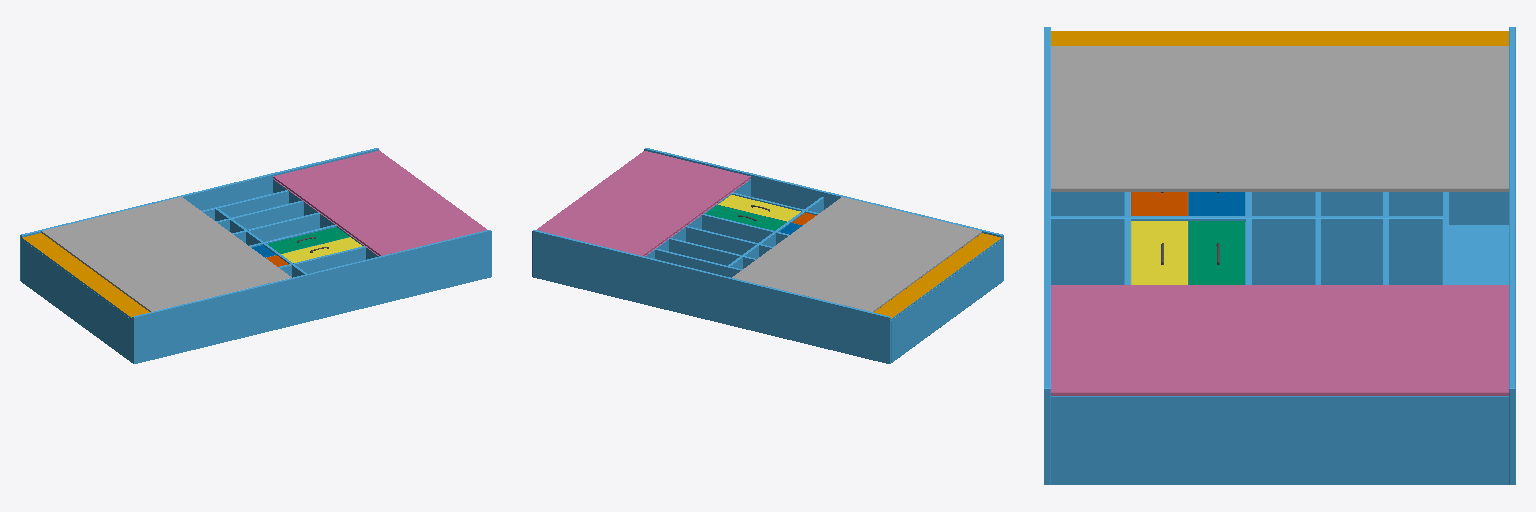
robot.urdf — 184:
<robot name="184">


	<link name="0:virtual">
		<visual>
			<origin xyz="0.0 0.0 0.0" rpy="0 0 0"/>
			<geometry>
				<cylinder length="0" radius="0"/>
			</geometry>
		</visual>
	</link>


	<link name="1:static">
		<visual>
			<origin xyz="-0.0 -0.0 -0.0" rpy="0 0 0"/>
			<geometry>
				<mesh filename="../raw_data/184/part_meshes/1.dae" />
			</geometry>
		</visual>
	</link>


	<link name="2:drawer 1">
		<visual>
			<origin xyz="-0.4124946380034089 -0.8063510060310364 0.016566134989261627" rpy="0 0 0"/>
			<geometry>
				<mesh filename="../raw_data/184/part_meshes/2.dae" />
			</geometry>
		</visual>
	</link>


	<link name="3:drawer 2">
		<visual>
			<origin xyz="-0.4124946380034089 -0.5362470000982285 0.016566261649131775" rpy="0 0 0"/>
			<geometry>
				<mesh filename="../raw_data/184/part_meshes/3.dae" />
			</geometry>
		</visual>
	</link>


	<link name="4:drawer 3">
		<visual>
			<origin xyz="0.41249473858624697 -0.8063510060310364 0.016566134989261627" rpy="0 0 0"/>
			<geometry>
				<mesh filename="../raw_data/184/part_meshes/4.dae" />
			</geometry>
		</visual>
	</link>


	<link name="5:drawer 4">
		<visual>
			<origin xyz="0.41249473858624697 -0.5362470000982285 0.016566261649131775" rpy="0 0 0"/>
			<geometry>
				<mesh filename="../raw_data/184/part_meshes/5.dae" />
			</geometry>
		</visual>
	</link>


	<link name="6:cabinet door 1">
		<visual>
			<origin xyz="-2.0 -1.0999666256830096 -0.19941399991512299" rpy="0 0 0"/>
			<geometry>
				<mesh filename="../raw_data/184/part_meshes/6.dae" />
			</geometry>
		</visual>
	</link>


	<link name="7:cabinet door 2">
		<visual>
			<origin xyz="0.9964194819331169 -1.1000000378116965 -0.24000000208616257" rpy="0 0 0"/>
			<geometry>
				<mesh filename="../raw_data/184/part_meshes/7.dae" />
			</geometry>
		</visual>
	</link>


	<link name="8:cabinet door 3">
		<visual>
			<origin xyz="1.4051694869995117 -1.0999996280297637 -0.2199999988079071" rpy="0 0 0"/>
			<geometry>
				<mesh filename="../raw_data/184/part_meshes/8.dae" />
			</geometry>
		</visual>
	</link>


	<joint name="0:virtual::1:static" type="fixed">
		<parent link="0:virtual"/>
		<child link="1:static"/>
		<origin xyz="0.0 0.0 0.0" rpy="0 0 0"/>
	</joint>


	<joint name="0:virtual::2:drawer 1_translation" type="prismatic">
		<parent link="0:virtual"/>
		<child link="2:drawer 1"/>
		<origin xyz="0.4124946380034089 0.8063510060310364 -0.016566134989261627" rpy="0 0 0"/>
		<limit lower="0.0" upper="0.278128490746021" effort="10" velocity="3"/>
		<axis xyz="0.0 0.0 1.0"/>
	</joint>


	<joint name="0:virtual::3:drawer 2_translation" type="prismatic">
		<parent link="0:virtual"/>
		<child link="3:drawer 2"/>
		<origin xyz="0.4124946380034089 0.5362470000982285 -0.016566261649131775" rpy="0 0 0"/>
		<limit lower="0.0" upper="0.282411990046501" effort="10" velocity="3"/>
		<axis xyz="0.0 0.0 1.0"/>
	</joint>


	<joint name="0:virtual::4:drawer 3_translation" type="prismatic">
		<parent link="0:virtual"/>
		<child link="4:drawer 3"/>
		<origin xyz="-0.41249473858624697 0.8063510060310364 -0.016566134989261627" rpy="0 0 0"/>
		<limit lower="0.0" upper="0.285411990046501" effort="10" velocity="3"/>
		<axis xyz="0.0 0.0 1.0"/>
	</joint>


	<joint name="0:virtual::5:drawer 4_translation" type="prismatic">
		<parent link="0:virtual"/>
		<child link="5:drawer 4"/>
		<origin xyz="-0.41249473858624697 0.5362470000982285 -0.016566261649131775" rpy="0 0 0"/>
		<limit lower="0.0" upper="0.279411990046501" effort="10" velocity="3"/>
		<axis xyz="0.0 0.0 1.0"/>
	</joint>


	<joint name="0:virtual::6:cabinet door 1_rotation" type="revolute">
		<parent link="0:virtual"/>
		<child link="6:cabinet door 1"/>
		<origin xyz="2.0 1.0999666256830096 0.19941399991512299" rpy="0 0 0"/>
		<limit lower="0.0" upper="3.141592653589793" effort="10" velocity="3"/>
		<axis xyz="0.0 1.0 0.0"/>
	</joint>


	<joint name="0:virtual::7:cabinet door 2_translation" type="prismatic">
		<parent link="0:virtual"/>
		<child link="7:cabinet door 2"/>
		<origin xyz="-0.9964194819331169 1.1000000378116965 0.24000000208616257" rpy="0 0 0"/>
		<limit lower="-0.216" upper="2.175" effort="10" velocity="3"/>
		<axis xyz="1.0 0.0 0.0"/>
	</joint>


	<joint name="0:virtual::8:cabinet door 3_translation" type="prismatic">
		<parent link="0:virtual"/>
		<child link="8:cabinet door 3"/>
		<origin xyz="-1.4051694869995117 1.0999996280297637 0.2199999988079071" rpy="0 0 0"/>
		<limit lower="0.0" upper="1.597" effort="10" velocity="3"/>
		<axis xyz="1.0 0.0 0.0"/>
	</joint>


</robot>

--- What the picture shows (computed from the rendered views, not written in the file) ---
3 views of the same robot in one strip: view 1: azimuth 30°, elevation 25°; view 2: azimuth 150°, elevation 25°; view 3: azimuth 270°, elevation 25° (orthographic).
Model 184 with 9 links and 8 joints (1 revolute, 6 prismatic, 1 fixed), rooted at 0:virtual, posed all joints at 0.
Links seen in each view (by area): view 1: 1:static, 7:cabinet door 2, 6:cabinet door 1, 8:cabinet door 3, 2:drawer 1, 3:drawer 2; view 2: 1:static, 7:cabinet door 2, 6:cabinet door 1, 8:cabinet door 3, 3:drawer 2, 2:drawer 1; view 3: 1:static, 7:cabinet door 2, 6:cabinet door 1, 8:cabinet door 3, 3:drawer 2, 2:drawer 1, 5:drawer 4, 4:drawer 3.
Boxes of the visible links, x1,y1,x2,y2 form: 1:static: (20, 148, 491, 363); 7:cabinet door 2: (41, 197, 291, 311); 6:cabinet door 1: (273, 150, 486, 255); 8:cabinet door 3: (23, 233, 149, 317); 2:drawer 1: (268, 227, 349, 253); 3:drawer 2: (281, 237, 361, 262); 1:static: (532, 148, 1003, 363); 7:cabinet door 2: (732, 197, 981, 311); 6:cabinet door 1: (537, 151, 750, 256); 8:cabinet door 3: (874, 233, 1000, 318); 3:drawer 2: (718, 195, 800, 221); 2:drawer 1: (706, 205, 786, 230); 1:static: (1044, 27, 1515, 484); 7:cabinet door 2: (1051, 46, 1508, 191); 6:cabinet door 1: (1051, 285, 1508, 395); 8:cabinet door 3: (1051, 31, 1508, 45); 3:drawer 2: (1131, 221, 1187, 284); 2:drawer 1: (1189, 221, 1244, 284); 5:drawer 4: (1131, 192, 1187, 215); 4:drawer 3: (1189, 192, 1244, 215).
Size in the robot's own frame: 4 by 2.2 by 0.5 metres.
8 mesh visuals loaded from 8 distinct referenced files (8 Collada DAE).